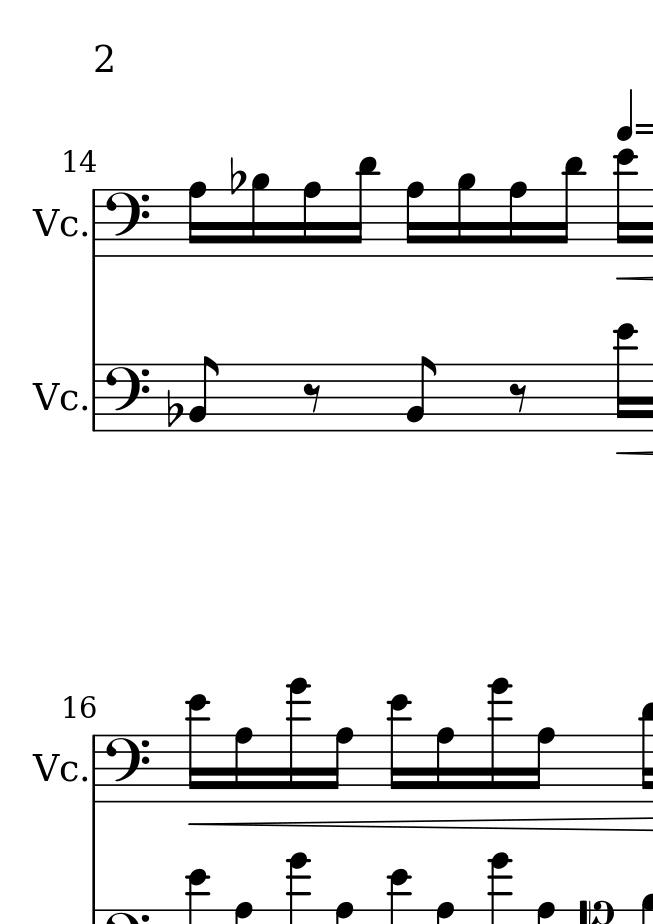1: (62, 146, 77, 176), (64, 692, 77, 720)
16_11: (347, 156, 380, 257), (553, 155, 585, 259)
16_12: (612, 148, 639, 262), (386, 693, 412, 805), (612, 321, 637, 433), (186, 693, 211, 804)
16_14: (284, 677, 312, 804), (486, 677, 514, 804)
16_8: (326, 725, 354, 806), (529, 726, 554, 804), (432, 726, 456, 806), (507, 180, 531, 259), (186, 180, 209, 260), (301, 178, 322, 261), (404, 180, 426, 258), (232, 725, 254, 803)
16_9: (454, 173, 477, 257), (250, 172, 272, 258)
4: (78, 144, 97, 176)
6: (75, 690, 97, 721)
8_2: (405, 356, 438, 432), (187, 354, 219, 432)
Crescendo_hairpin: (190, 815, 653, 833)
Fclef: (104, 188, 151, 260), (103, 734, 150, 805), (105, 361, 150, 432)
Flat: (228, 154, 247, 198), (165, 387, 184, 428)
Rests8: (301, 380, 325, 414), (507, 381, 528, 413)
Single_barline: (84, 363, 104, 432), (86, 735, 104, 801), (88, 190, 103, 257)
